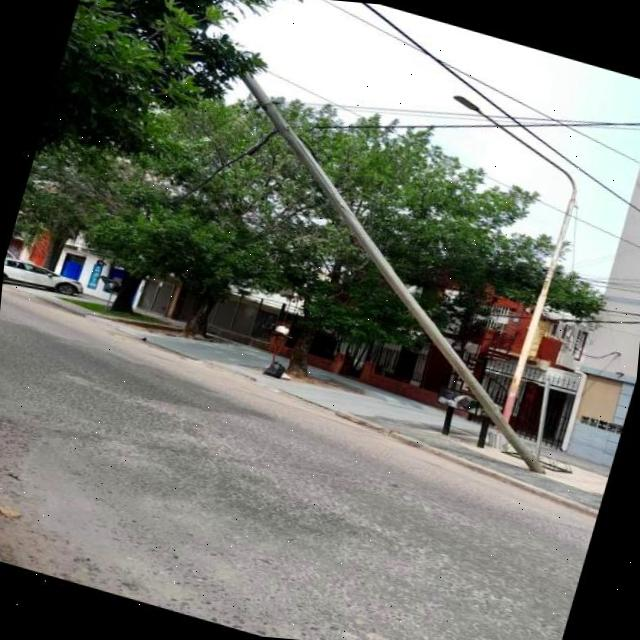Broken Pole: (239, 72, 545, 473)
